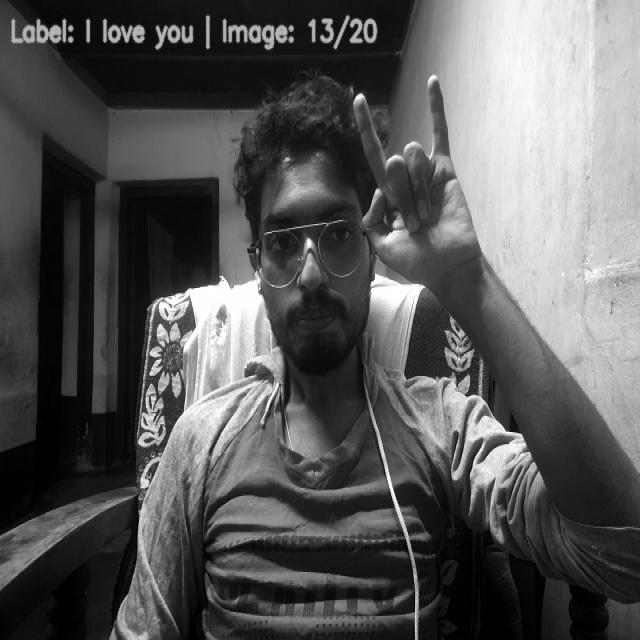I love you: (352, 84, 489, 279)
